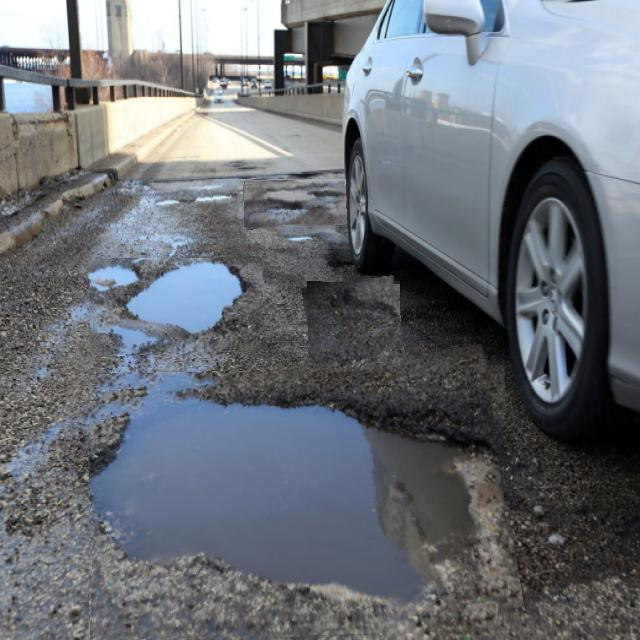Pothole: (89, 359, 515, 640), (89, 258, 263, 355), (304, 278, 403, 372), (244, 179, 346, 229), (154, 183, 238, 215)
